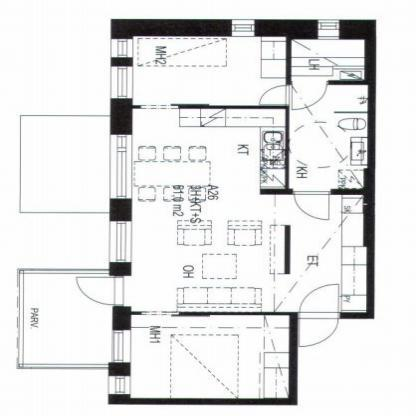door: (291, 281, 346, 348), (290, 309, 344, 350), (68, 275, 130, 307), (293, 279, 345, 317), (290, 189, 337, 222), (289, 81, 337, 112), (253, 82, 293, 113)
window: (103, 131, 135, 204), (105, 216, 135, 267), (104, 325, 136, 368), (105, 64, 137, 104), (314, 15, 347, 44), (224, 14, 259, 41), (107, 36, 137, 62), (104, 372, 133, 398)
